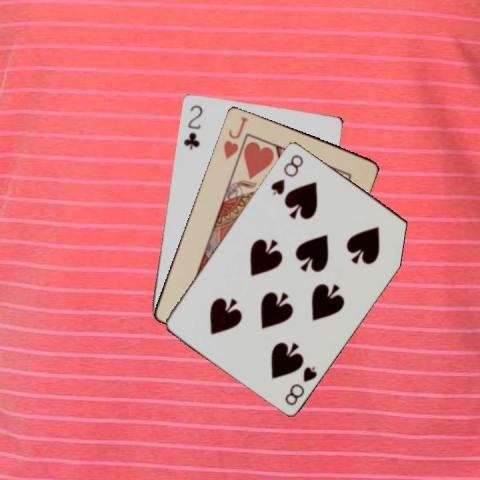2c: (181, 101, 204, 151)
8s: (268, 151, 306, 196), (281, 362, 319, 406)
Jh: (220, 112, 249, 160)
